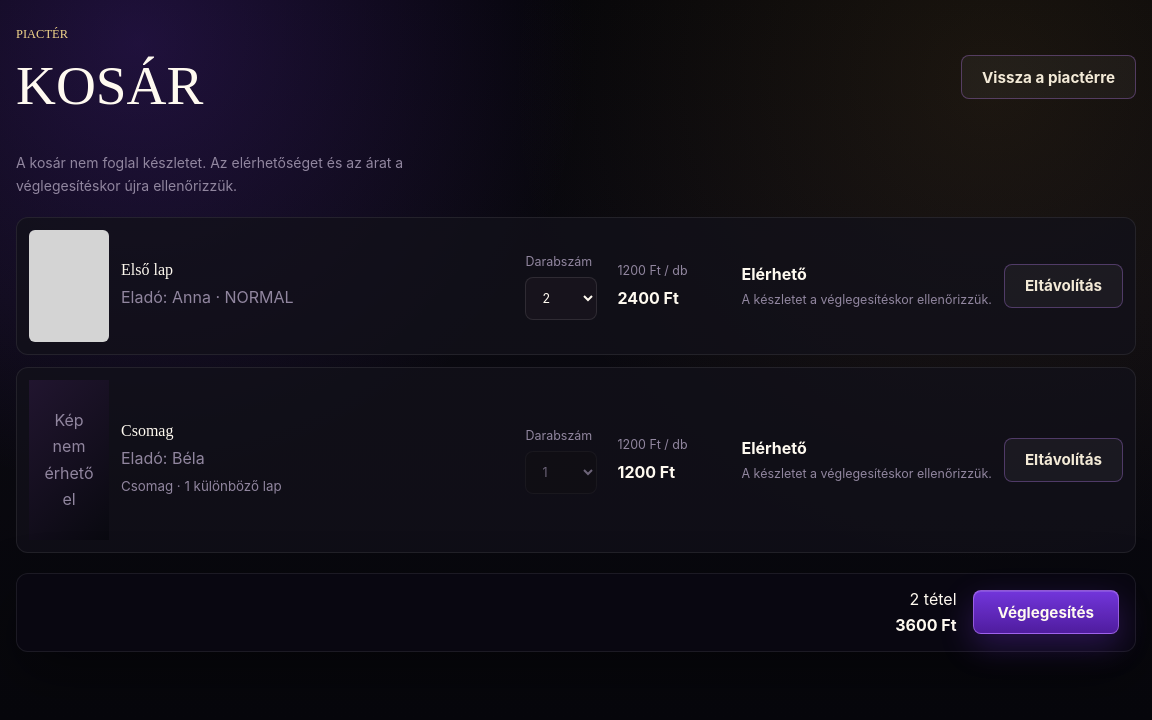
Test: CartPage › sikeres véglegesítés után összesítőt és ügylet-linket mutat
The width and height of the screenshot is (1152, 720).
Click the button "Véglegesítés" at (1046, 612), box [972, 590, 1119, 634]
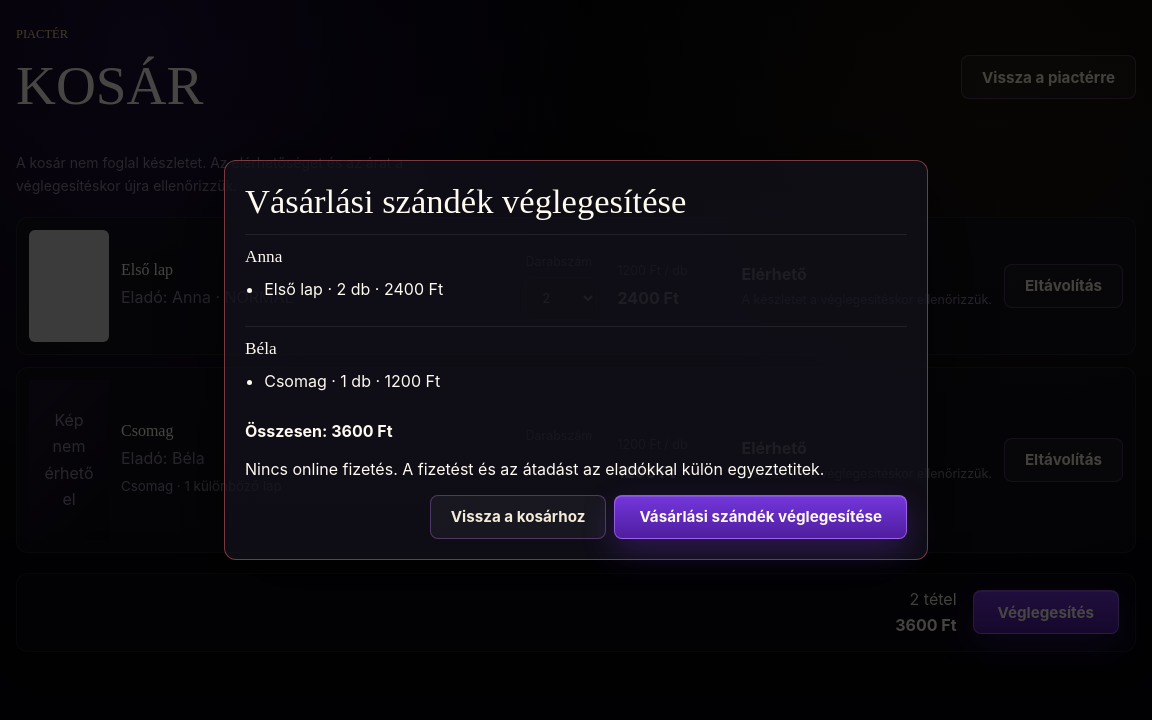
Click the button "Vásárlási szándék véglegesítése" at (761, 517), box [614, 495, 907, 539]
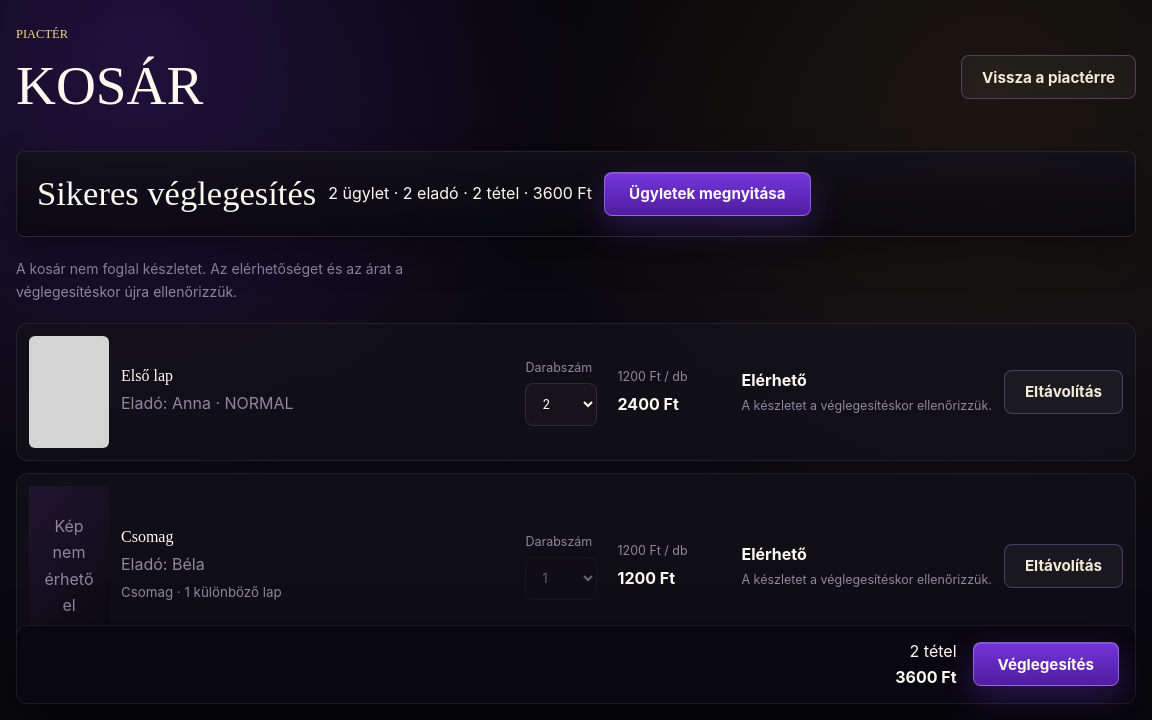
Result: the message shows "2 ügylet · 2 eladó · 2 tétel" at [16, 151, 1136, 237]
